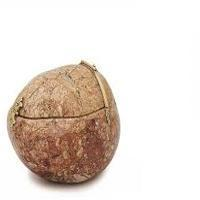biodegradable: (6, 62, 121, 185)
